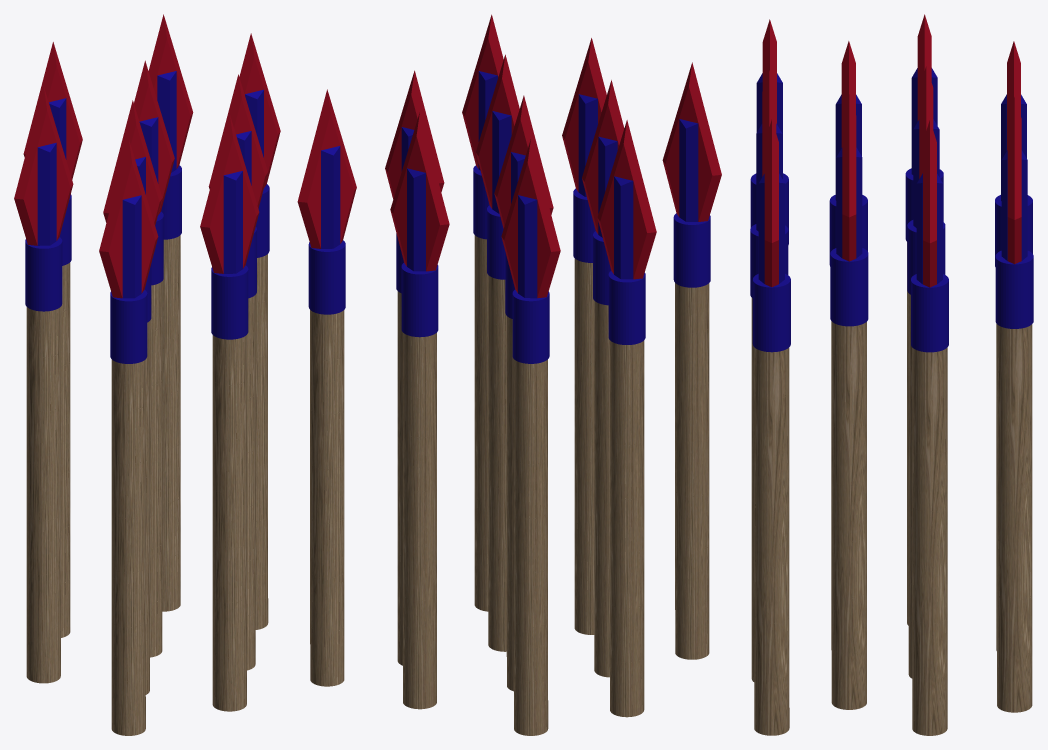
Rendered from spears.obj.
3 views of the same model, side by side, from view 1: azimuth 30°, elevation 25°; view 2: azimuth 150°, elevation 25°; view 3: azimuth 270°, elevation 25° (orthographic). The views are drawn at different scales.
Visible parts, largest first — view 1: Spear.001_Spear.004; view 2: Spear.001_Spear.004; view 3: Spear.001_Spear.004.
Part boxes in pixels (bbox=[...]): Spear.001_Spear.004: bbox=[14, 14, 356, 735]; Spear.001_Spear.004: bbox=[385, 14, 721, 735]; Spear.001_Spear.004: bbox=[750, 14, 1033, 735].
Size of the model in its own units: 4.54 by 9.51 by 4.01.
